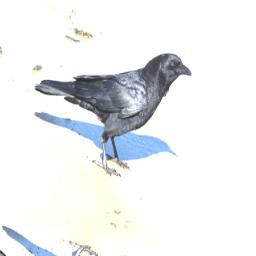Crow: (21, 0, 196, 199)
